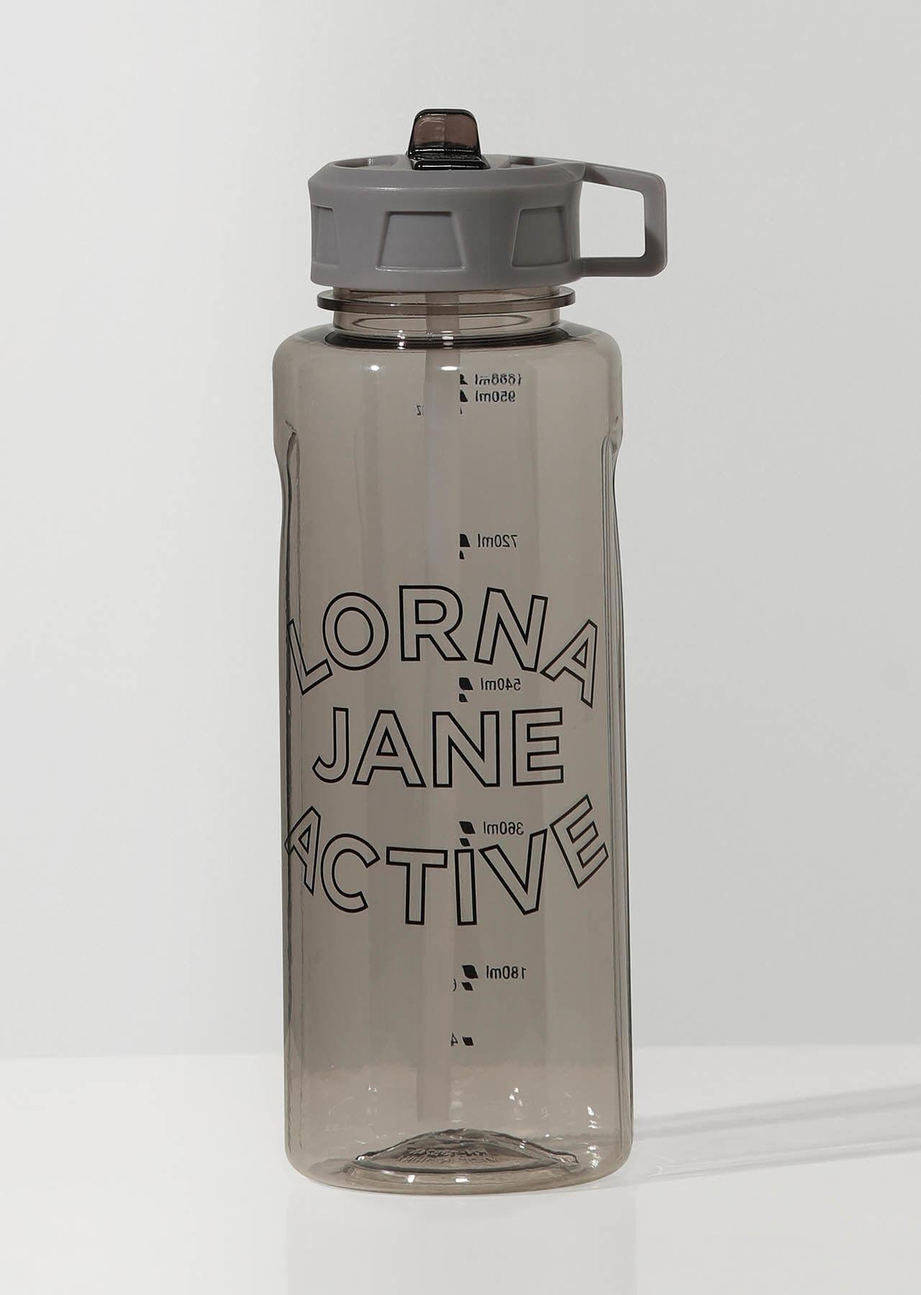gym bottle: (266, 110, 659, 1200)
